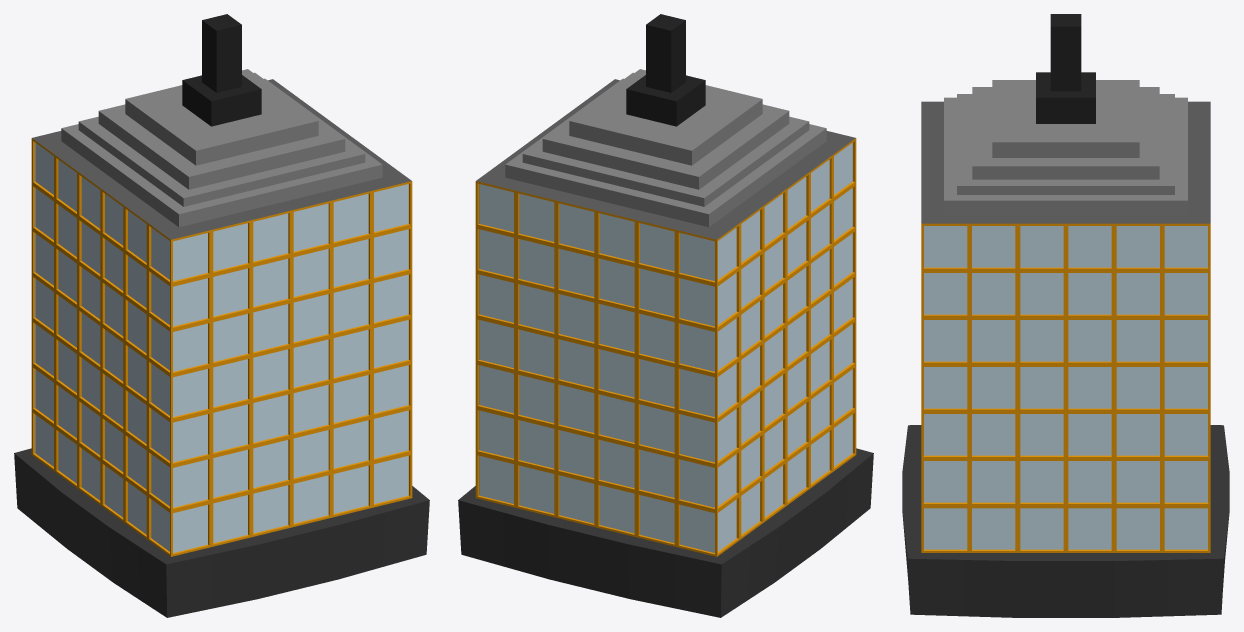
The model's file is gedung kecil.fbx.
The picture shows the model from 3 angles, left to right: view 1: azimuth 30°, elevation 25°; view 2: azimuth 150°, elevation 25°; view 3: azimuth 270°, elevation 25°; orthographic projection. The views are drawn at different scales.
Parts seen in each view (by area): view 1: gedung kecil; view 2: gedung kecil; view 3: gedung kecil.
Part boxes in pixels (box(x1,y1,x2,y2)): gedung kecil: box(14, 14, 429, 617); gedung kecil: box(458, 14, 873, 617); gedung kecil: box(902, 14, 1229, 617).
Bounding box in the file's own units: 2140 × 3867 × 2140.
